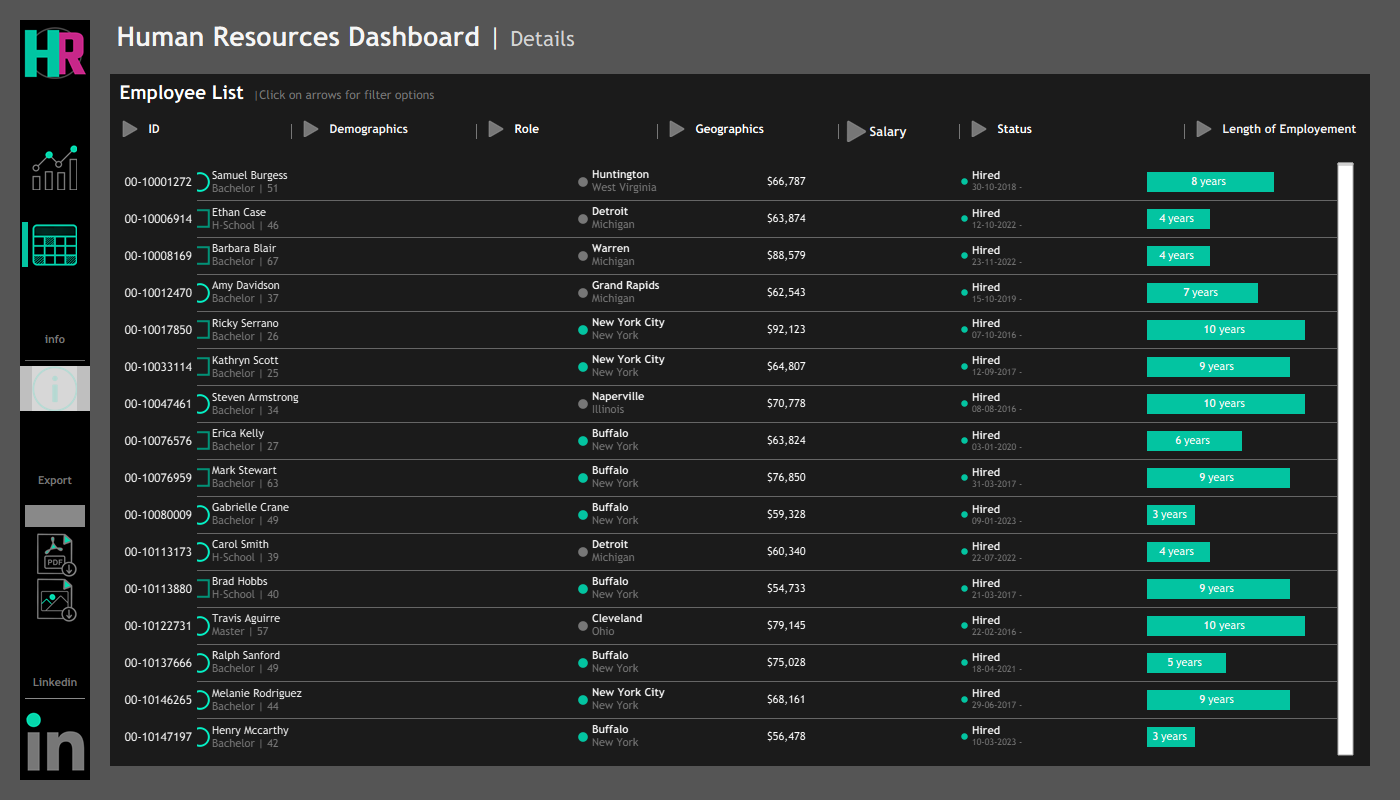

Layout of this report page (visuals, bound fields, positions):
{"tool":"tableau","page":{"name":"HR | Details","canvas":[1400,800],"ordinal":0},"visuals":[{"type":"text","box":[110,0,668,74]},{"type":"blank","box":[778,0,592,74]},{"type":"image","param":"Image/Logo.png","box":[20,20,70,65]},{"type":"text","box":[117,81,1246,33]},{"type":"blank","box":[20,85,70,50]},{"type":"filter","title":"Detailed","param":"[federated.1uyxoep0x56zws0zshm201e2xodo].[none:City:nk]","box":[664,108,168,27.3]},{"type":"filter","title":"Detailed","param":"[federated.1uyxoep0x56zws0zshm201e2xodo].[none:Calculation_1468697292947468:nk]","box":[966,108,212,48]},{"type":"filter","title":"Detailed","param":"[federated.1uyxoep0x56zws0zshm201e2xodo].[sum:Calculation_0678698519584782:qk]","box":[1191,108,175,112]},{"type":"filter","title":"Detailed","param":"[federated.1uyxoep0x56zws0zshm201e2xodo].[sum:Salary:qk]","box":[845,113,108,65]},{"type":"dashboard-object","box":[117,114,25,30]},{"type":"text","box":[142,114,45,30]},{"type":"blank","box":[285,114,13,35]},{"type":"dashboard-object","box":[298,114,25,30]},{"type":"text","box":[323,114,147,30]},{"type":"blank","box":[470,114,13,35]},{"type":"dashboard-object","box":[483,114,25,30]},{"type":"text","box":[508,114,100,30]},{"type":"blank","box":[651,114,13,35]},{"type":"dashboard-object","box":[664,114,25,30]},{"type":"text","box":[689,114,125,30]},{"type":"blank","box":[832,114,13,35]},{"type":"dashboard-object","box":[845,114,22,35]},{"type":"text","box":[867,114,54,35]},{"type":"blank","box":[953,114,13,35]},{"type":"dashboard-object","box":[966,114,25,30]},{"type":"text","box":[991,114,187,30]},{"type":"blank","box":[1178,114,13,35]},{"type":"dashboard-object","box":[1191,114,25,30]},{"type":"text","box":[1216,114,147,30]},{"type":"filter","title":"Detailed","param":"[federated.1uyxoep0x56zws0zshm201e2xodo].[none:Calculation_1468697176035333:nk]","box":[664,135.3,168,27.3]},{"type":"filter","title":"Detailed","param":"[federated.1uyxoep0x56zws0zshm201e2xodo].[none:Employee_ID:nk]","box":[117,144,168,45]},{"type":"filter","title":"Detailed","param":"[federated.1uyxoep0x56zws0zshm201e2xodo].[none:Calculation_0678698498244619:nk]","box":[298,144,172,48]},{"type":"filter","title":"Detailed","param":"[federated.1uyxoep0x56zws0zshm201e2xodo].[none:Job Title:nk]","box":[483,144,168,32]},{"type":"dashboard-object","box":[30,145,50,45]},{"type":"worksheet","title":"Detailed","mark":"Shape","rows":["Employee_ID"],"cols":["Calculation_0678698511077389","Calculation_0678698511077389","Calculation_0678698511077389","Calculation_0678698511077389","Calculation_0678698511077389","Calculation_0678698519584782"],"box":[117,159,1246,600]},{"type":"filter","title":"Detailed","param":"[federated.1uyxoep0x56zws0zshm201e2xodo].[none:State:nk]","box":[664,162.7,168,27.3]},{"type":"filter","title":"Detailed","param":"[federated.1uyxoep0x56zws0zshm201e2xodo].[none:Department:nk]","box":[483,176,168,32]},{"type":"filter","title":"Detailed","param":"[federated.1uyxoep0x56zws0zshm201e2xodo].[none:Gender:nk]","box":[298,192,172,48]},{"type":"blank","box":[20,200,70,22]},{"type":"dashboard-object","box":[20,222,70,45]},{"type":"blank","box":[22,222,6,45]},{"type":"filter","title":"Detailed","param":"[federated.1uyxoep0x56zws0zshm201e2xodo].[attr:Calculation_1468697187979275:nk]","box":[298,240,172,48]},{"type":"blank","box":[20,267,70,56]},{"type":"filter","title":"Detailed","param":"[federated.1uyxoep0x56zws0zshm201e2xodo].[none:Education Level:nk]","box":[298,288,172,48]},{"type":"text","box":[20,323,70,32]},{"type":"blank","box":[20,355,70,11]},{"type":"dashboard-object","box":[20,366,70,45]},{"type":"blank","box":[20,411,70,50]},{"type":"text","box":[20,461,70,39]},{"type":"blank","box":[20,500,70,32]},{"type":"dashboard-object","box":[20,532,70,45]},{"type":"dashboard-object","box":[20,577,70,45]},{"type":"blank","box":[20,622,70,50]},{"type":"text","box":[20,672,70,21]},{"type":"blank","box":[20,693,70,11]},{"type":"image","param":"Image/contact-linkedin.png","box":[20,704,70,76]}]}

Visuals, with their boxes on the page's 1400x800 design canvas (x1, y1, x2, y2). These are canvas units, not pixel positions in the 1400x800 screenshot, which may show the page scaled, cropped or inside an application window:
text: bbox(110, 0, 778, 74)
blank: bbox(778, 0, 1370, 74)
image: bbox(20, 20, 90, 85)
text: bbox(117, 81, 1363, 114)
blank: bbox(20, 85, 90, 135)
"Detailed" filter: bbox(664, 108, 832, 135)
"Detailed" filter: bbox(966, 108, 1178, 156)
"Detailed" filter: bbox(1191, 108, 1366, 220)
"Detailed" filter: bbox(845, 113, 953, 178)
dashboard-object: bbox(117, 114, 142, 144)
text: bbox(142, 114, 187, 144)
blank: bbox(285, 114, 298, 149)
dashboard-object: bbox(298, 114, 323, 144)
text: bbox(323, 114, 470, 144)
blank: bbox(470, 114, 483, 149)
dashboard-object: bbox(483, 114, 508, 144)
text: bbox(508, 114, 608, 144)
blank: bbox(651, 114, 664, 149)
dashboard-object: bbox(664, 114, 689, 144)
text: bbox(689, 114, 814, 144)
blank: bbox(832, 114, 845, 149)
dashboard-object: bbox(845, 114, 867, 149)
text: bbox(867, 114, 921, 149)
blank: bbox(953, 114, 966, 149)
dashboard-object: bbox(966, 114, 991, 144)
text: bbox(991, 114, 1178, 144)
blank: bbox(1178, 114, 1191, 149)
dashboard-object: bbox(1191, 114, 1216, 144)
text: bbox(1216, 114, 1363, 144)
"Detailed" filter: bbox(664, 135, 832, 163)
"Detailed" filter: bbox(117, 144, 285, 189)
"Detailed" filter: bbox(298, 144, 470, 192)
"Detailed" filter: bbox(483, 144, 651, 176)
dashboard-object: bbox(30, 145, 80, 190)
"Detailed" worksheet (Shape marks): bbox(117, 159, 1363, 759)
"Detailed" filter: bbox(664, 163, 832, 190)
"Detailed" filter: bbox(483, 176, 651, 208)
"Detailed" filter: bbox(298, 192, 470, 240)
blank: bbox(20, 200, 90, 222)
dashboard-object: bbox(20, 222, 90, 267)
blank: bbox(22, 222, 28, 267)
"Detailed" filter: bbox(298, 240, 470, 288)
blank: bbox(20, 267, 90, 323)
"Detailed" filter: bbox(298, 288, 470, 336)
text: bbox(20, 323, 90, 355)
blank: bbox(20, 355, 90, 366)
dashboard-object: bbox(20, 366, 90, 411)
blank: bbox(20, 411, 90, 461)
text: bbox(20, 461, 90, 500)
blank: bbox(20, 500, 90, 532)
dashboard-object: bbox(20, 532, 90, 577)
dashboard-object: bbox(20, 577, 90, 622)
blank: bbox(20, 622, 90, 672)
text: bbox(20, 672, 90, 693)
blank: bbox(20, 693, 90, 704)
image: bbox(20, 704, 90, 780)
